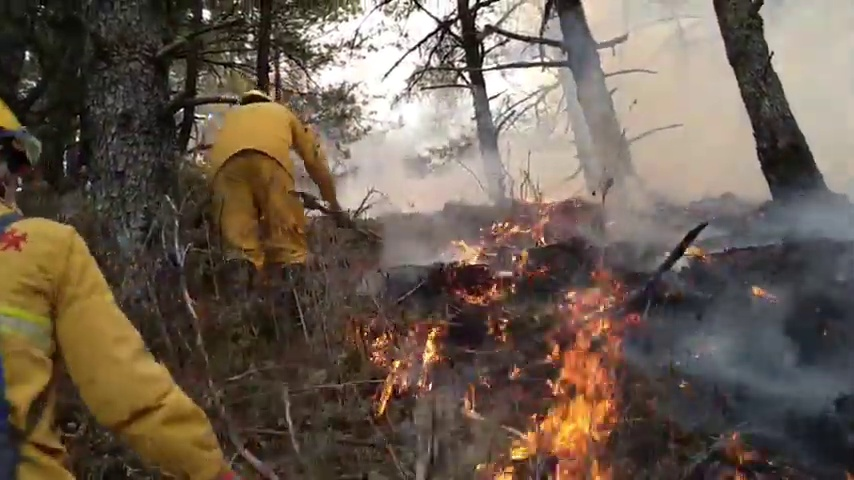fire: (496, 338, 617, 476), (377, 329, 438, 406), (453, 238, 479, 263)
